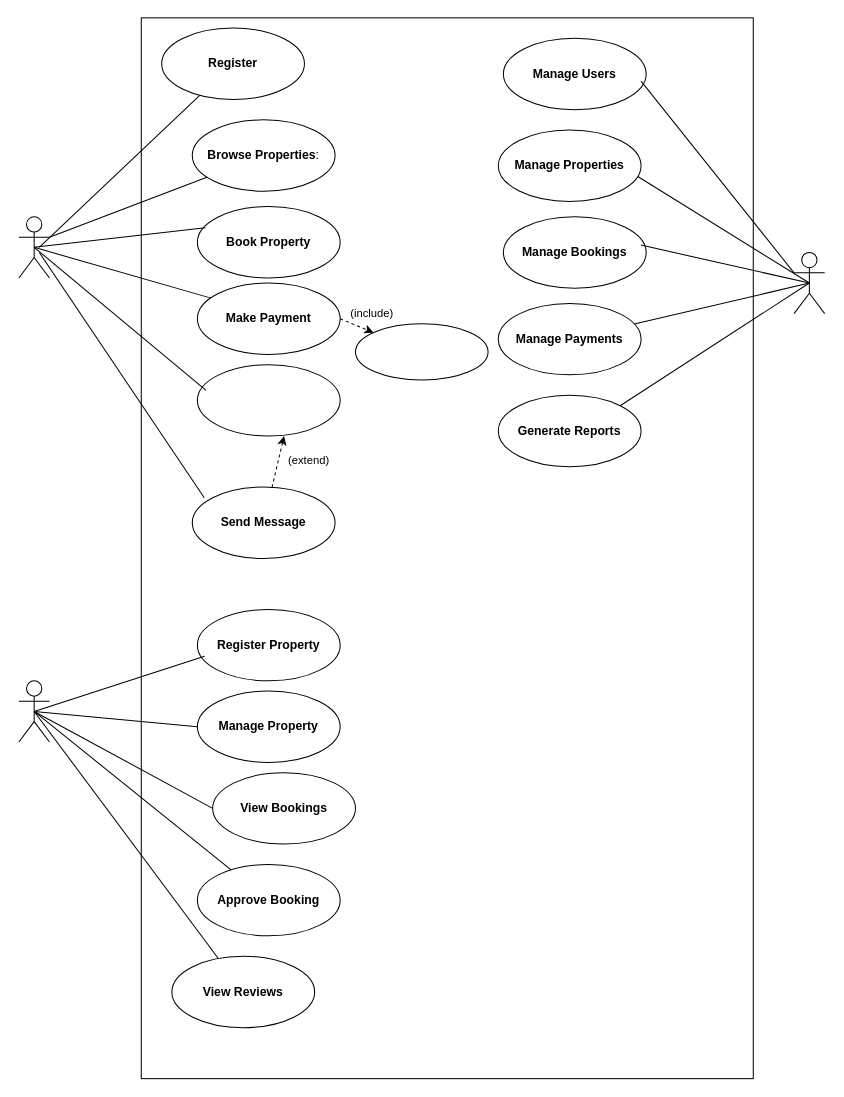
Some shapes in this 844 by 1097 pixel diagram are drawn without their labels. The centre of each missing label's shape, as x and y in pixels:
Admin: point 809,282
Guest: point 33,247
Host: point 33,711
Leave Review: point 268,400
Process Payment Method: point 421,351
